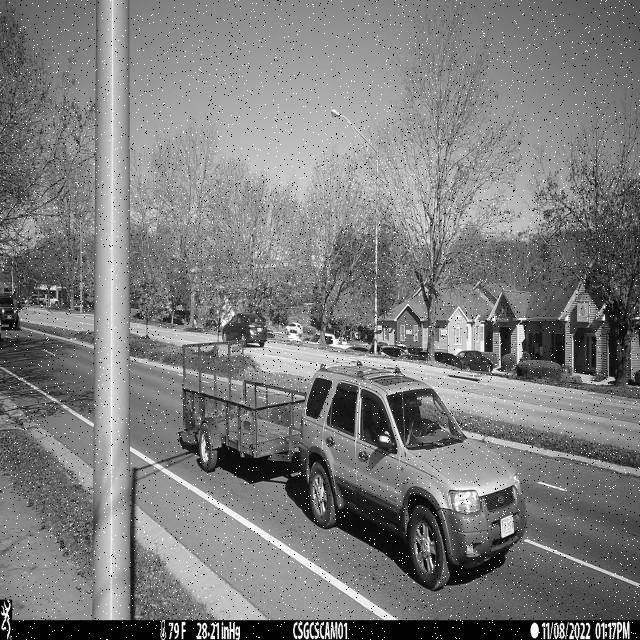Box Truck: (181, 341, 305, 473)
SUV: (299, 359, 527, 592)
